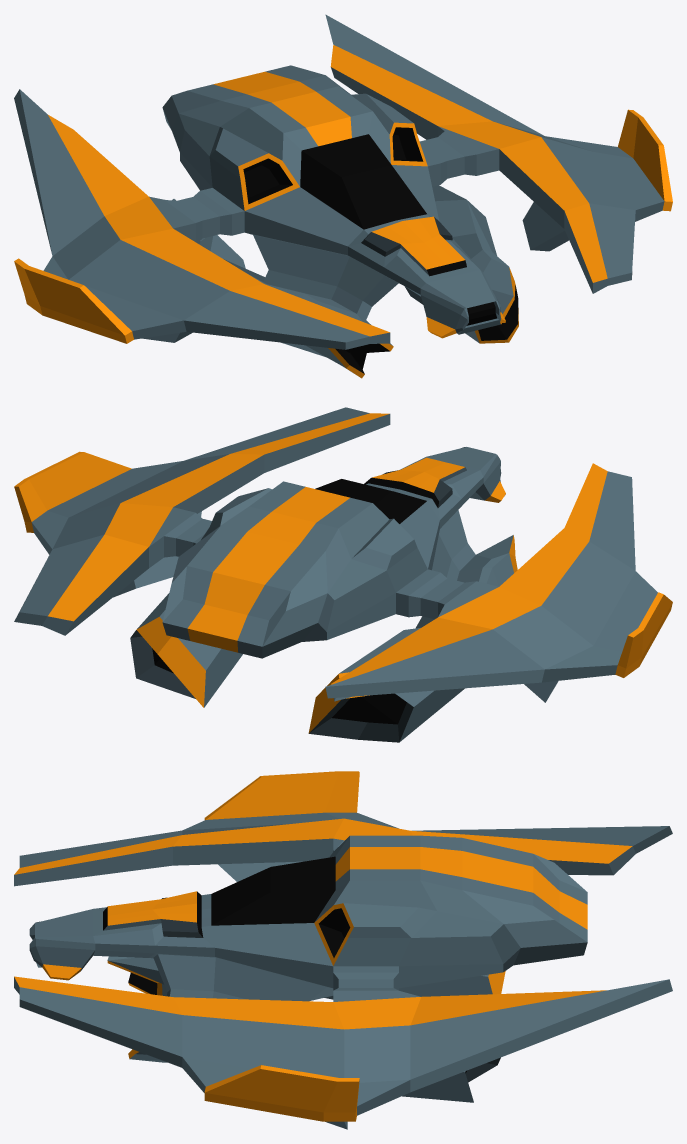
The model's file is hovercar.glb.
The picture shows the model from 3 angles, top to bottom: view 1: azimuth 30°, elevation 25°; view 2: azimuth 150°, elevation 25°; view 3: azimuth 270°, elevation 25°; orthographic projection. The views are drawn at different scales.
Parts seen in each view (by area): view 1: Cube; view 2: Cube; view 3: Cube.
Boxes of the visible parts, left/top/right/bottom form: Cube: left=14, top=14, right=672, bottom=378; Cube: left=14, top=407, right=672, bottom=742; Cube: left=14, top=771, right=672, bottom=1129.
Size of the model in its own units: 10.79 by 3.26 by 9.68.
Materials: 1 (1 with a texture image).
